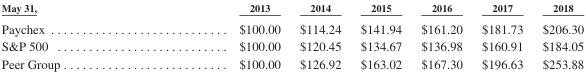table: (0, 1, 583, 71)
table column: (0, 1, 149, 71), (149, 1, 289, 71), (289, 1, 350, 71), (410, 1, 471, 71), (471, 1, 532, 71), (350, 1, 410, 71), (532, 1, 583, 71)
table column header: (0, 1, 583, 17)
table row: (0, 17, 583, 37), (0, 37, 583, 55), (0, 1, 583, 17), (0, 55, 583, 71)
